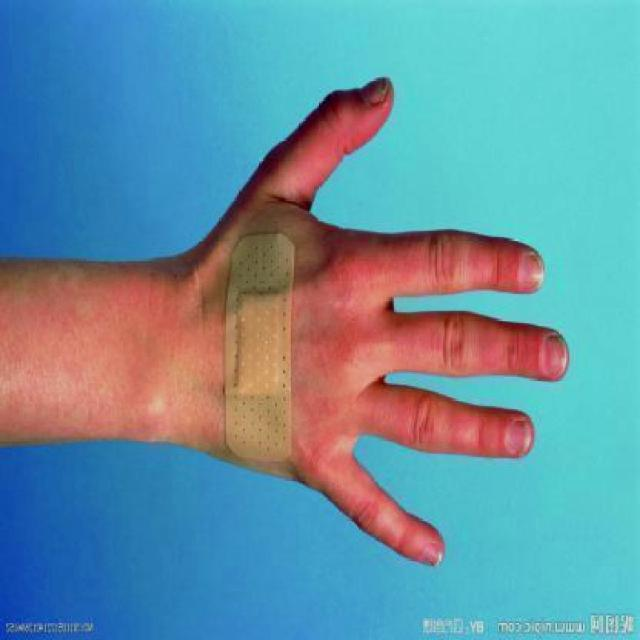hand_noglove: (184, 74, 574, 568)
